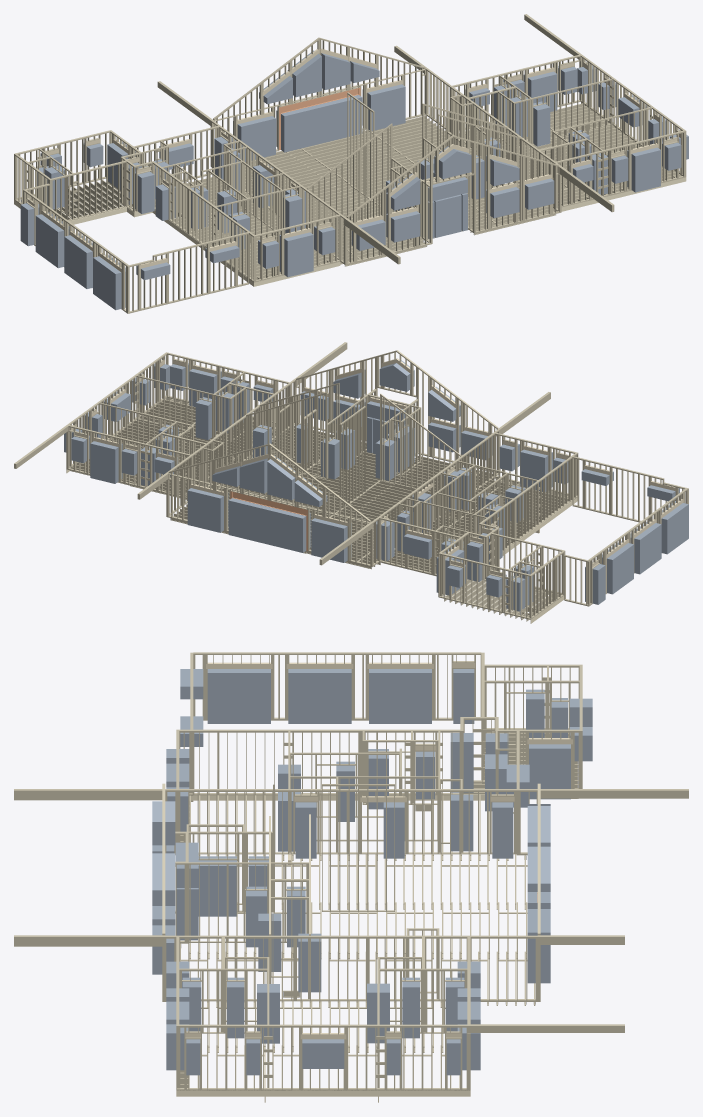
Rendered from asebedo.glb.
The picture shows the model from 3 angles, top to bottom: view 1: azimuth 30°, elevation 25°; view 2: azimuth 150°, elevation 25°; view 3: azimuth 270°, elevation 25°; orthographic projection. The views are drawn at different scales.
Parts seen in each view (by area): view 1: part_02, part_00, part_05, part_03, part_06; view 2: part_02, part_00, part_05, part_03, part_06; view 3: part_02, part_00, part_05, part_03.
Boxes of the visible parts, left/top/right/bottom form: part_02: left=14, top=14, right=686, bottom=313; part_00: left=20, top=50, right=688, bottom=310; part_05: left=27, top=48, right=681, bottom=272; part_03: left=14, top=102, right=686, bottom=286; part_06: left=279, top=87, right=360, bottom=150; part_02: left=14, top=342, right=688, bottom=621; part_00: left=64, top=360, right=688, bottom=611; part_05: left=71, top=358, right=683, bottom=576; part_03: left=66, top=397, right=577, bottom=623; part_06: left=230, top=491, right=307, bottom=550; part_02: left=14, top=652, right=688, bottom=1090; part_00: left=152, top=669, right=592, bottom=1075; part_05: left=185, top=662, right=572, bottom=1102; part_03: left=176, top=731, right=568, bottom=1096.
Size of the model in its own units: 39.87 by 7.51 by 29.35.
